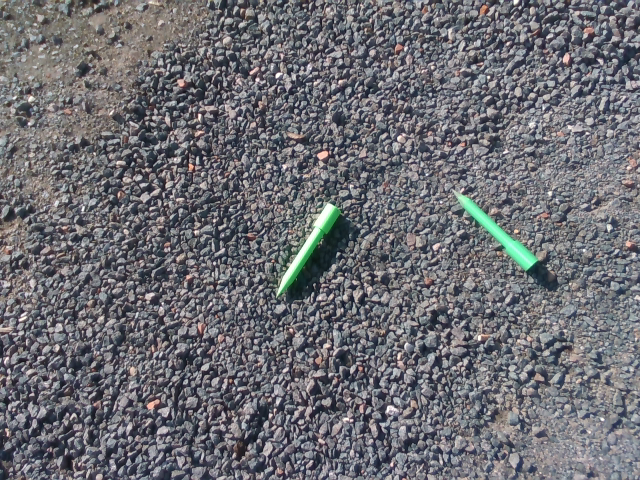Probe: (446, 183, 543, 278), (271, 198, 342, 304)
